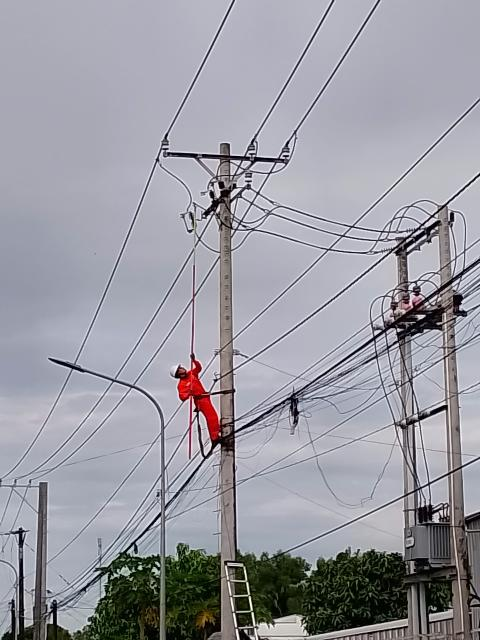gloves: (184, 351, 201, 360)
harness: (186, 389, 242, 400)
helmet: (165, 363, 181, 379)
